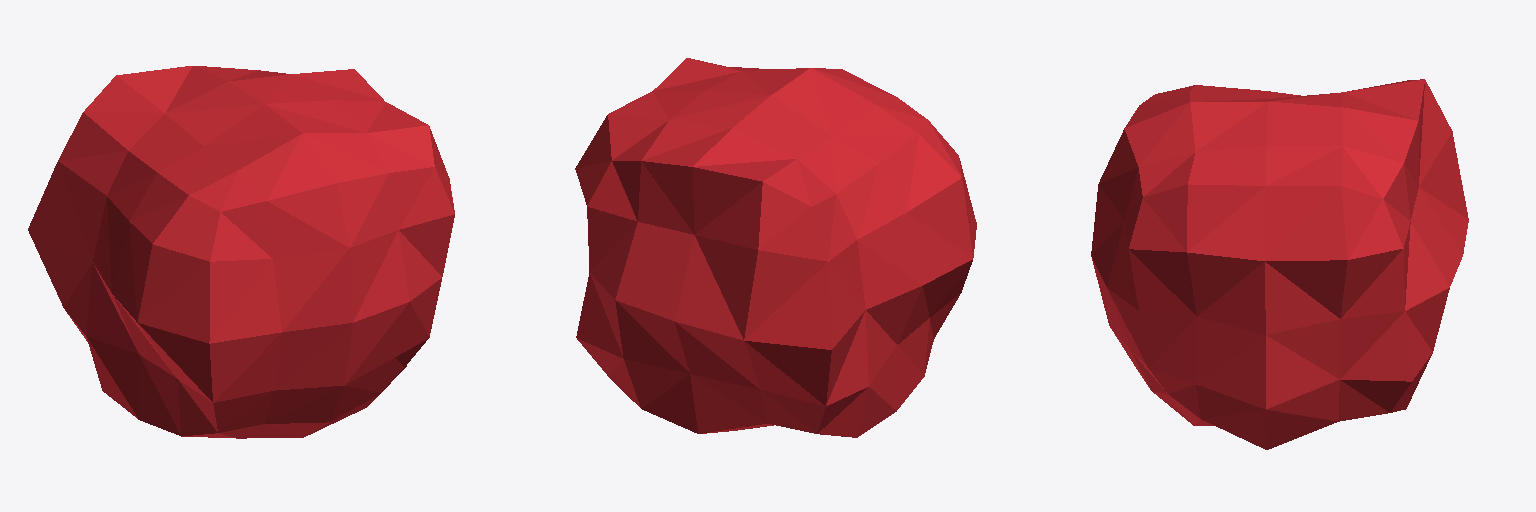
The picture shows the model from 3 angles: view 1: azimuth 30°, elevation 25°; view 2: azimuth 150°, elevation 25°; view 3: azimuth 270°, elevation 25°; orthographic projection.
Parts seen in each view (by area): view 1: Cube; view 2: Cube; view 3: Cube.
Part boxes in pixels (x1,y1,x2,y2): Cube: (28, 66, 454, 438); Cube: (575, 58, 976, 437); Cube: (1091, 79, 1468, 449).
Bounding box in the file's own units: 2.62 × 2.41 × 2.65.
1 materials, 1 textured.